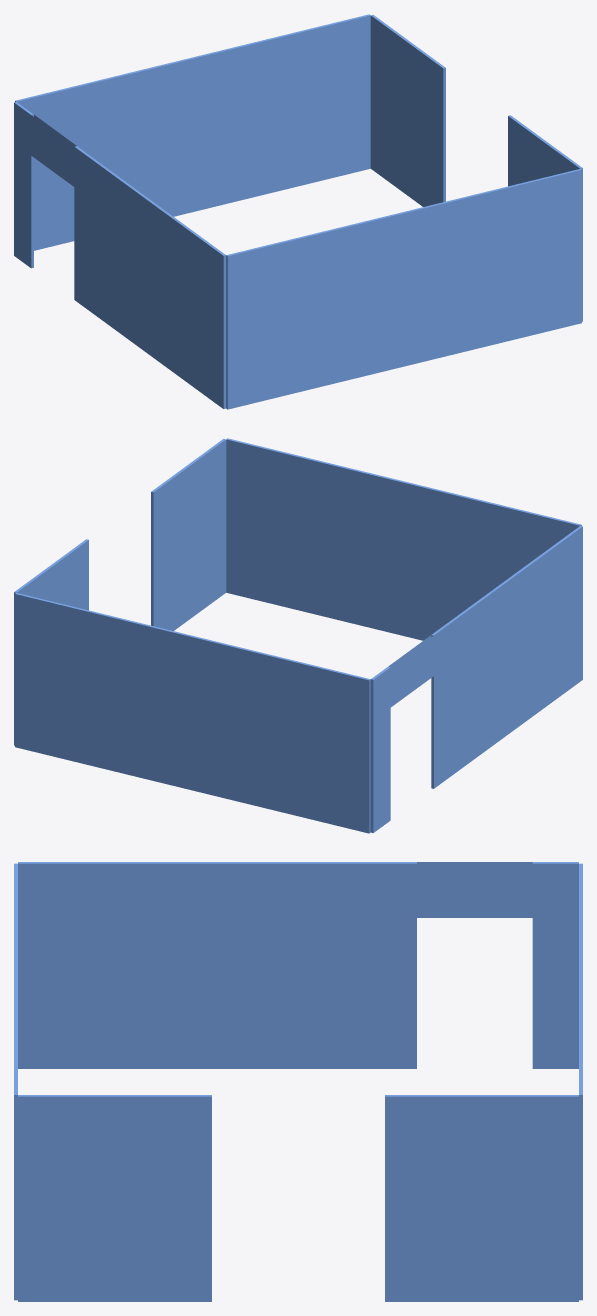
File: Culoar.fbx
The picture shows the model from 3 angles, top to bottom: view 1: azimuth 30°, elevation 25°; view 2: azimuth 150°, elevation 25°; view 3: azimuth 270°, elevation 25°; orthographic projection. The views are drawn at different scales.
Visible parts, largest first — view 1: Glass006; view 2: Glass006; view 3: Glass006.
Boxes of the visible parts, bbox=[...] form: Glass006: bbox=[14, 14, 582, 409]; Glass006: bbox=[14, 438, 582, 833]; Glass006: bbox=[14, 862, 582, 1301].
Size of the model in its own units: 410 by 167 by 420.
